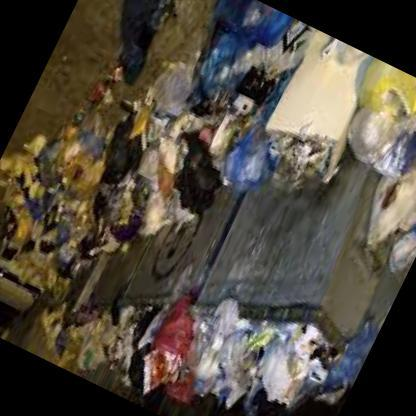Garbage: (100, 295, 324, 415), (294, 61, 415, 279), (0, 85, 153, 256), (0, 103, 132, 275), (147, 108, 247, 228), (217, 8, 307, 128), (175, 0, 269, 112), (126, 306, 221, 413), (230, 314, 317, 415), (102, 140, 173, 258), (35, 150, 100, 239), (35, 304, 114, 370), (215, 125, 277, 195), (7, 122, 61, 198), (0, 244, 65, 305), (118, 98, 165, 154), (84, 70, 113, 108)
